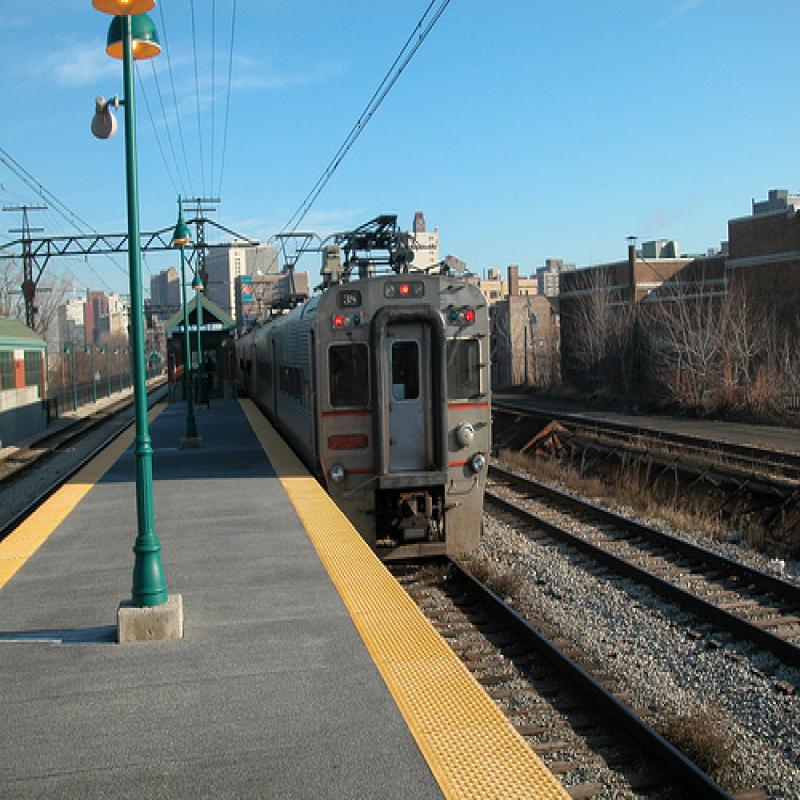train: (235, 214, 494, 560)
